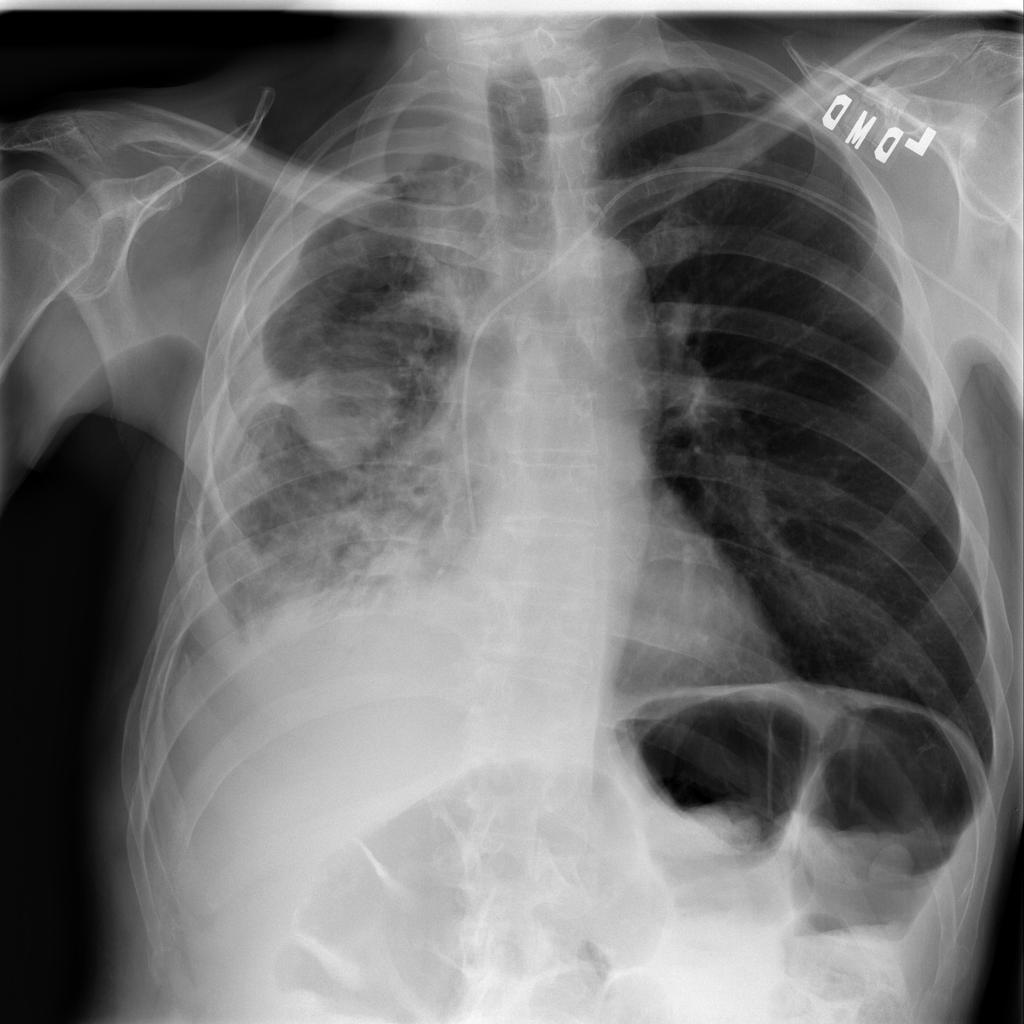nodule: (270, 325, 417, 474), (799, 244, 871, 314)
